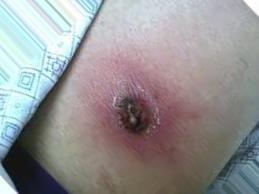Spider: (86, 62, 190, 170)
